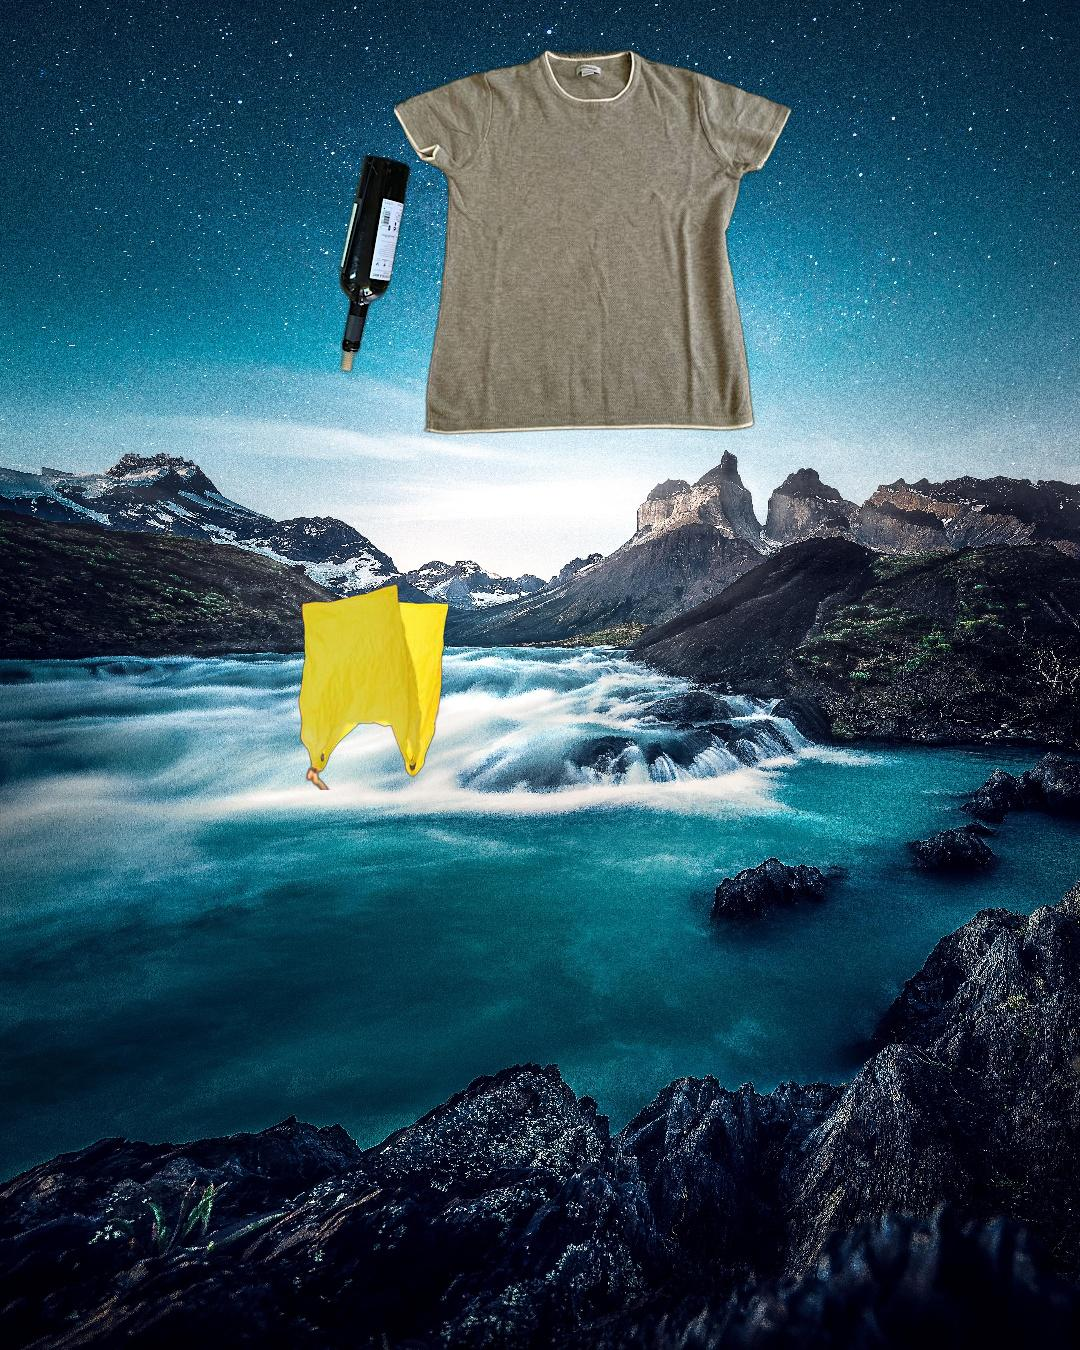clothes: (394, 45, 795, 438)
glass: (306, 150, 677, 659)
metal-cans: (478, 1061, 754, 1350), (1062, 1308, 1080, 1350)
plastic-bag: (296, 582, 452, 790)
shoes: (1078, 897, 1080, 1018)
trashbox-cardboard: (991, 1026, 1080, 1306), (1002, 1235, 1080, 1350)
